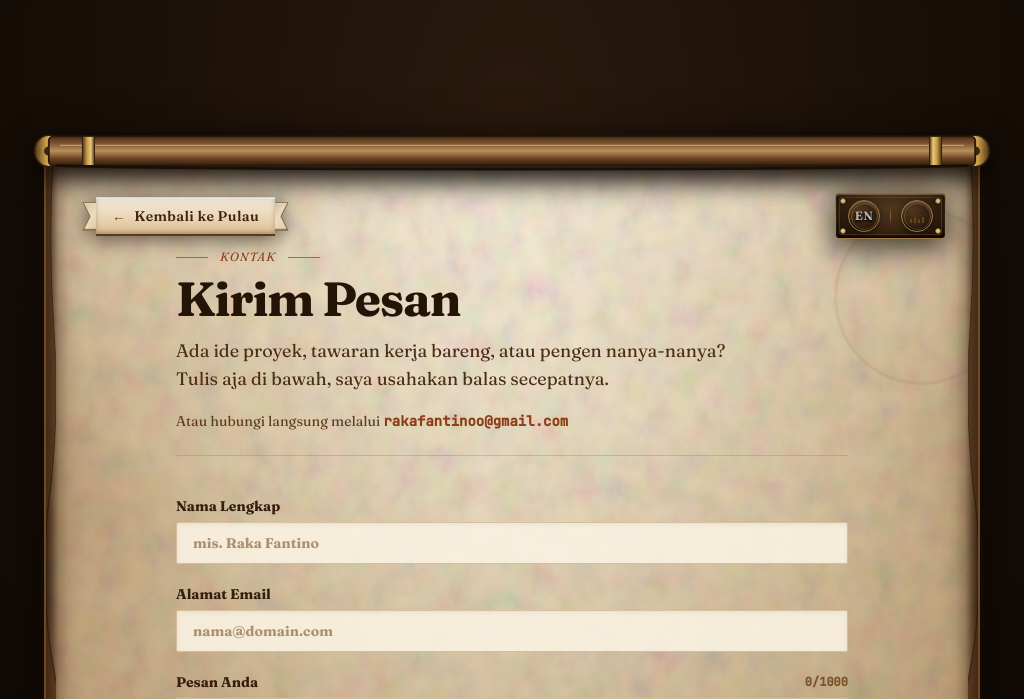
Test: Contact Page - Warm Editorial Dispatch Form › blocks submit and shows client-side validation error when email format is invalid
Type "Raka Tester" into the field labelled "Nama Lengkap" at [512, 543], box [176,522,848,564]
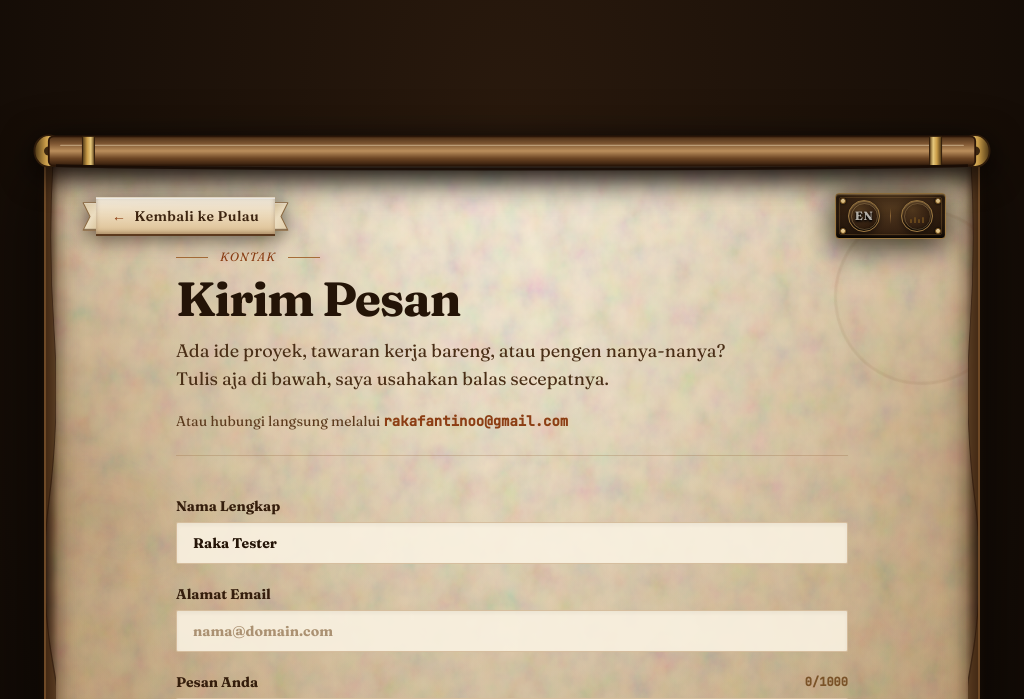
Type "invalid-email-no-at" into the field labelled "Alamat Email" at [512, 631], box [176,610,848,652]
(page scrolled)
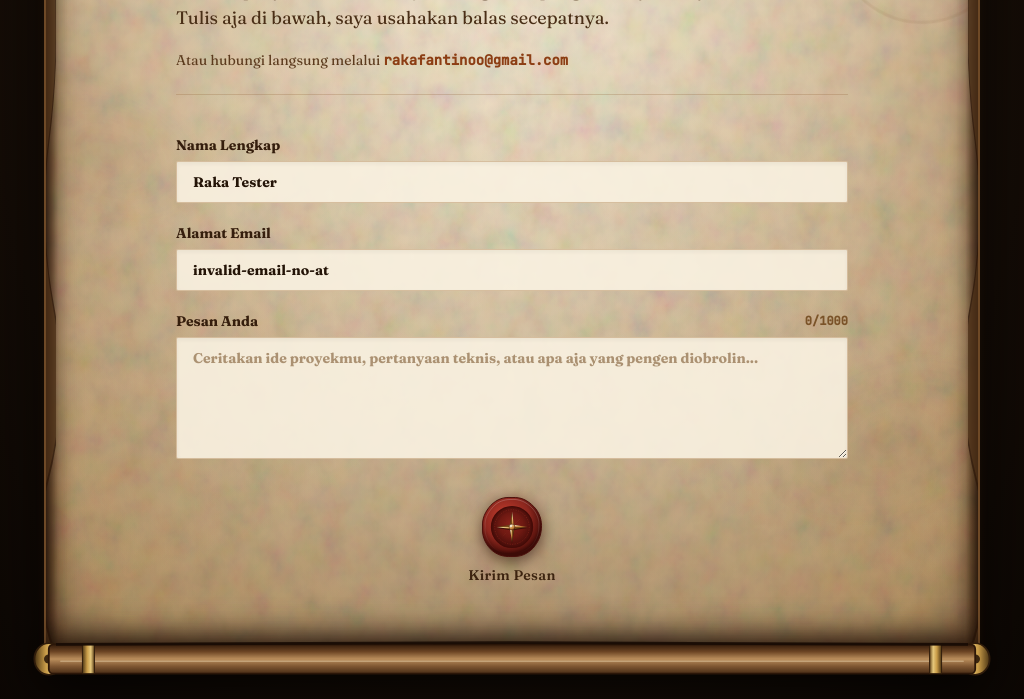
Replace the text in the text box labelled "Pesan Anda 0/1000" with "Valid message content" at [512, 398], box [176,337,848,459]
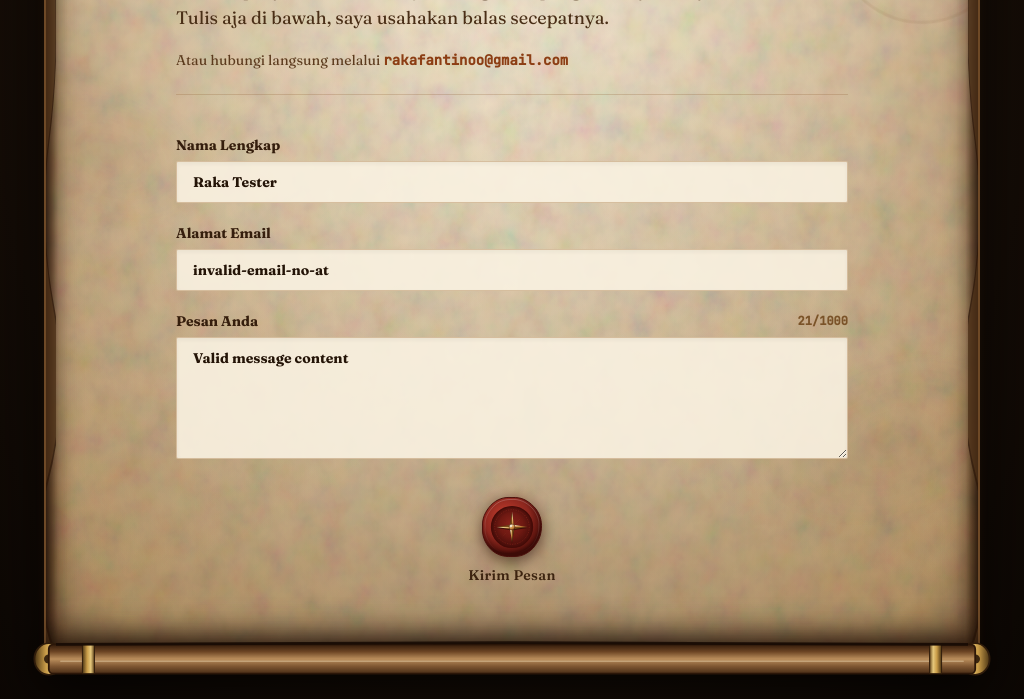
Click the button "Kirim Pesan" at [512, 540], box [468,495,556,585]
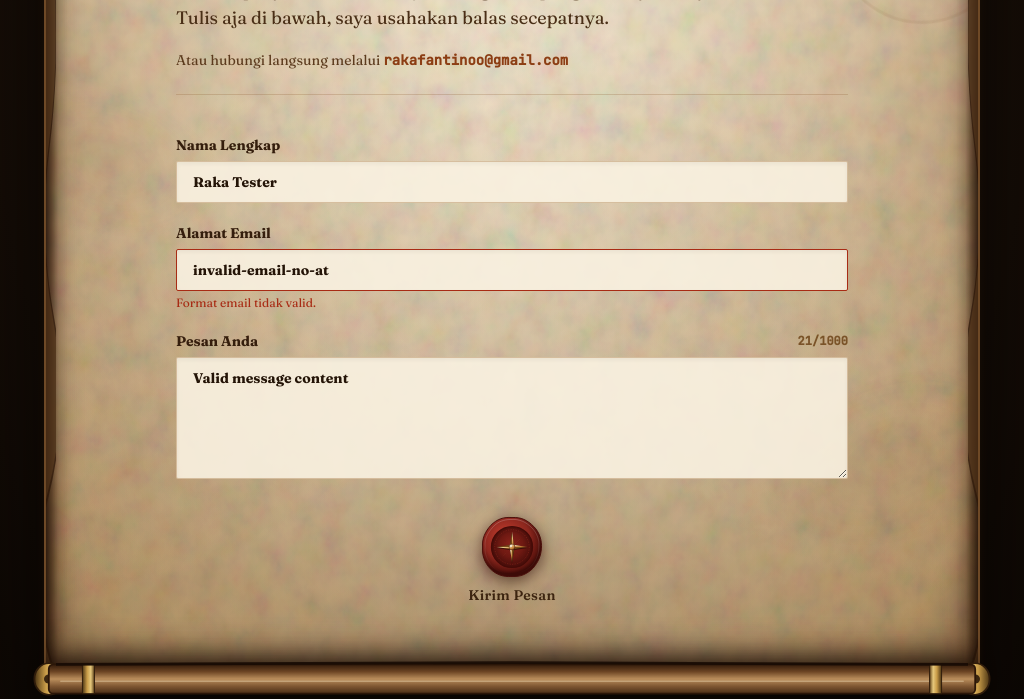
Check: the text "Format email tidak valid." is shown, box [176,295,316,310]
